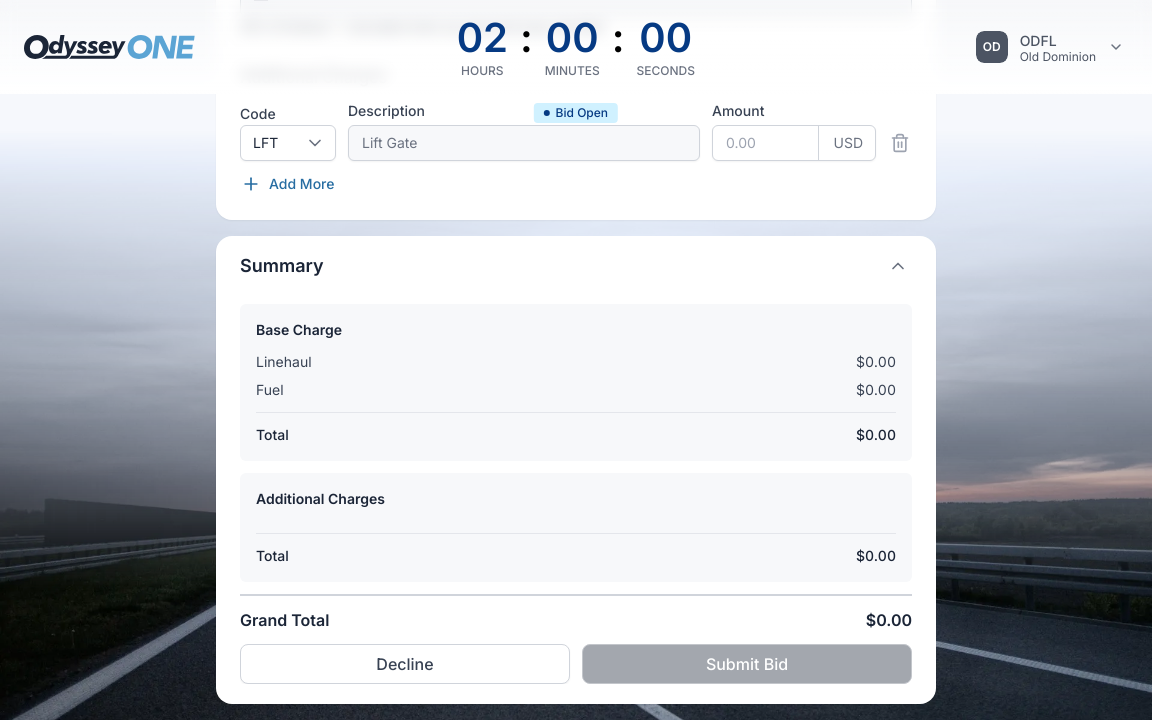
CarrierBid — open quote › clicking Decline opens a "Decline Bid" confirmation dialog without declining yet
(page scrolled)
Click the button "Decline": click(405, 664) x1=240 y1=644 x2=570 y2=684
(page scrolled)
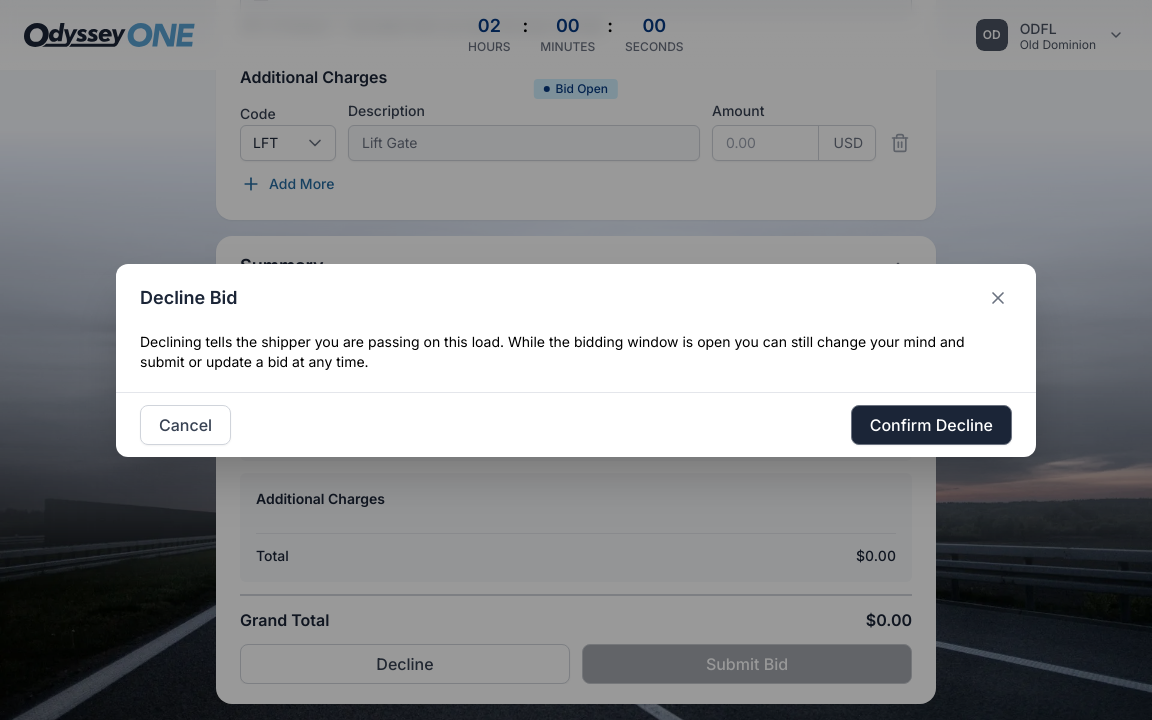
Check: the dialog "Decline Bid" is shown, box x1=116 y1=264 x2=1036 y2=456
Check: the text "Declining tells the shipper" is shown, box x1=140 y1=332 x2=965 y2=370
